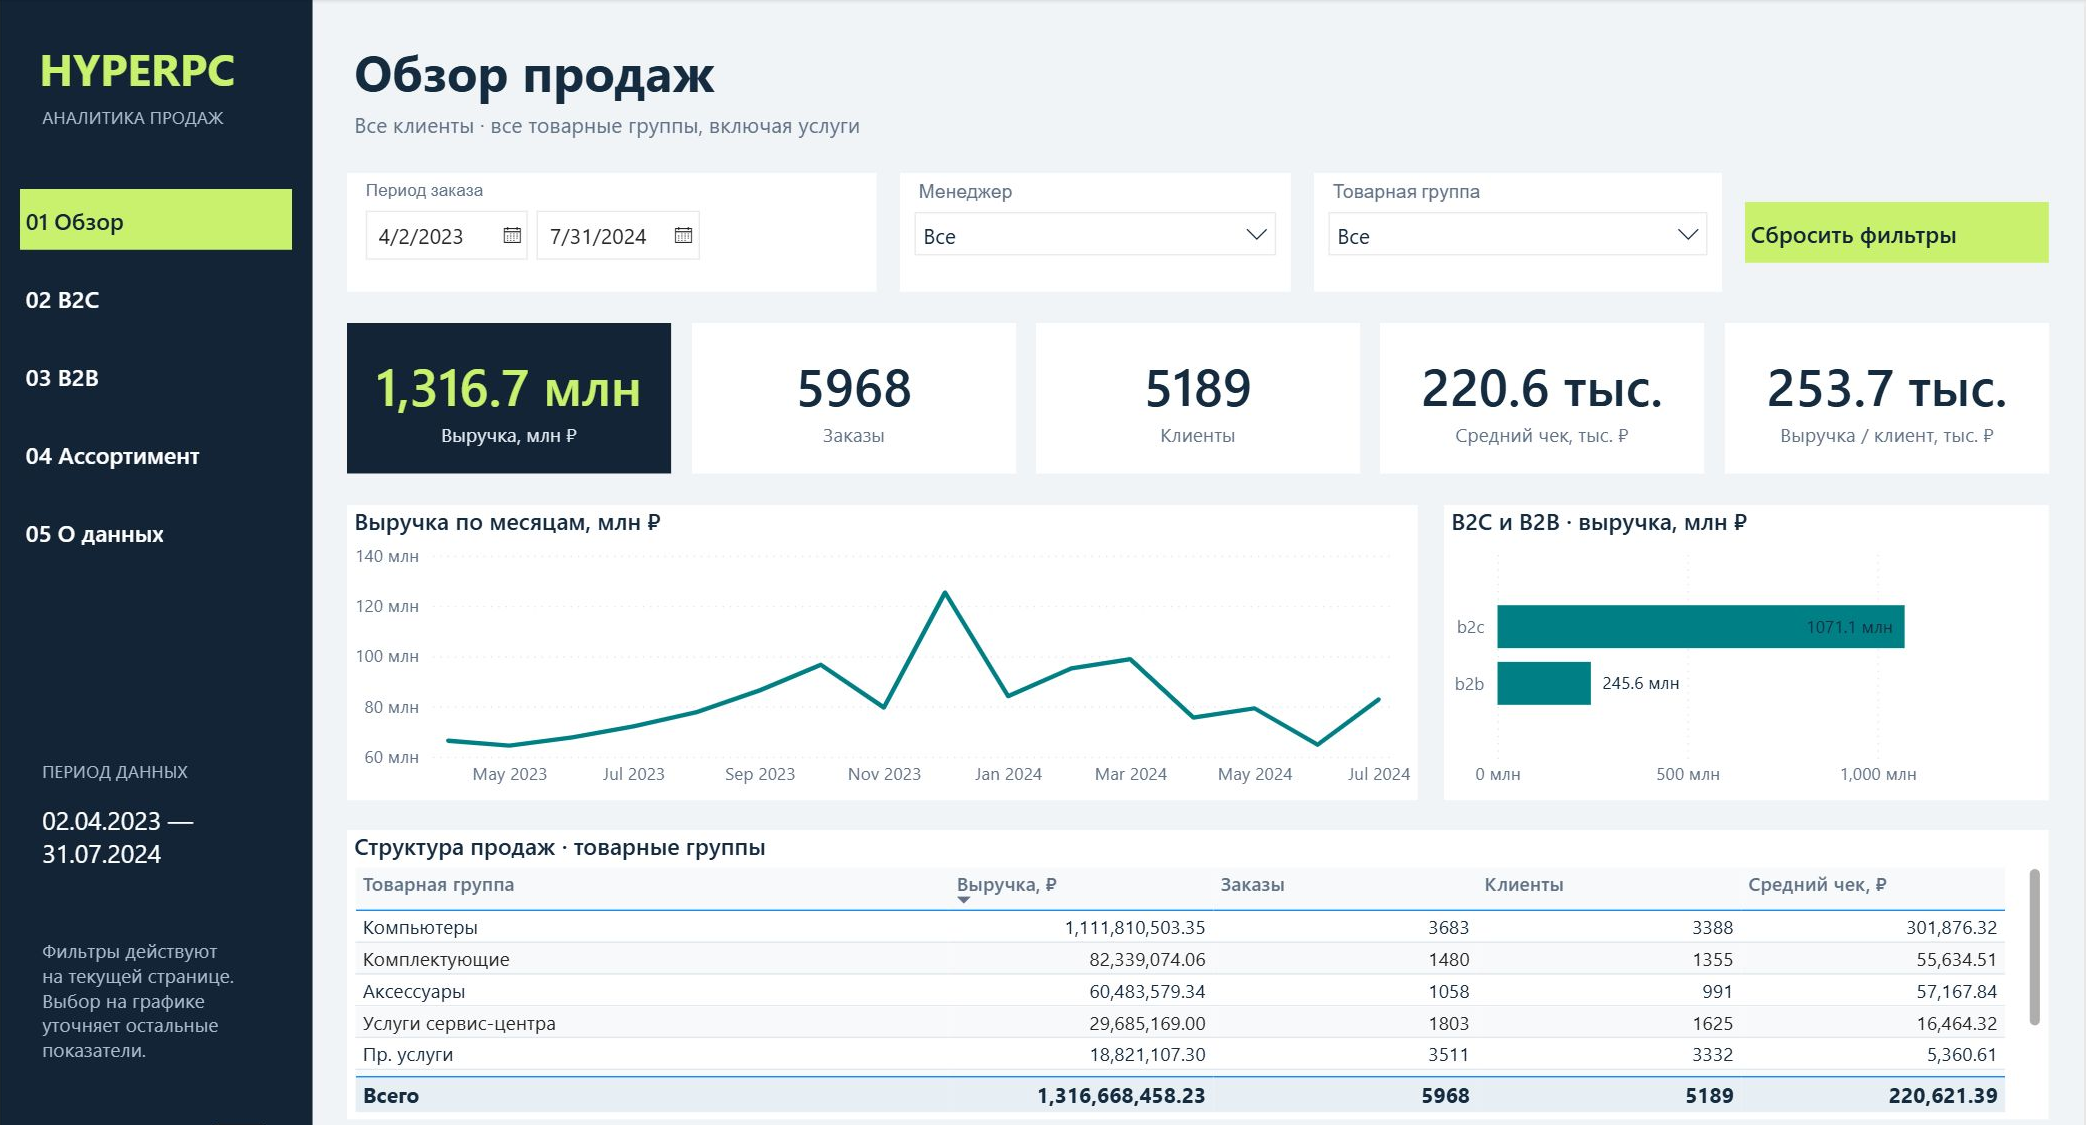

Layout of this report page (visuals, bound fields, positions):
{"tool":"powerbi","page":{"name":"01 Обзор","canvas":[1440,810],"ordinal":0},"visuals":[{"type":"textbox","box":[0,0,216,810],"z":1000},{"type":"textbox","box":[22,22,194,54],"z":2000},{"type":"textbox","box":[24,68,180,42],"z":3000},{"type":"actionButton","box":[14,131,188,42],"z":4000},{"type":"actionButton","box":[14,185,188,42],"z":5000},{"type":"actionButton","box":[14,239,188,42],"z":6000},{"type":"actionButton","box":[14,293,188,42],"z":7000},{"type":"actionButton","box":[14,347,188,42],"z":8000},{"type":"textbox","box":[24,520,170,40],"z":9000},{"type":"textbox","box":[24,550,170,79],"z":10000},{"type":"textbox","box":[24,644,174,120],"z":11000},{"type":"textbox","box":[240,22,970,59],"z":12000},{"type":"textbox","box":[240,72,1168,44],"z":13000},{"type":"slicer","fields":{"Values":["Таблица продаж.Дата заказа"]},"box":[240,120,366,82],"z":14000},{"type":"slicer","fields":{"Values":["Таблица продаж.Менеджер"]},"box":[622,120,270,82],"z":15000},{"type":"slicer","fields":{"Values":["Таблица продаж.Тов.группа"]},"box":[908,120,282,82],"z":16000},{"type":"actionButton","box":[1206,140,210,42],"z":17000},{"type":"textbox","box":[240,778,900,32],"z":18000},{"type":"textbox","box":[1345,778,70,32],"z":19000},{"type":"card","fields":{"Values":["Меры.Выручка"]},"box":[240,224,224,104],"z":20000},{"type":"card","fields":{"Values":["Меры.Количество заказов"]},"box":[478,224,224,104],"z":21000},{"type":"card","fields":{"Values":["Меры.Количество клиентов"]},"box":[716,224,224,104],"z":22000},{"type":"card","fields":{"Values":["Меры.Средний чек"]},"box":[954,224,224,104],"z":23000},{"type":"card","fields":{"Values":["Меры.LTV"]},"box":[1192,224,224,104],"z":24000},{"type":"lineChart","title":"Выручка по месяцам, млн ₽","fields":{"Y":["Меры.Выручка"],"Category":["Таблица продаж.Дата заказа.Изменение.Иерархия дат.Год","Таблица продаж.Дата заказа.Изменение.Иерархия дат.Месяц"]},"box":[240,350,740,204],"z":25000},{"type":"barChart","title":"B2C и B2B · выручка, млн ₽","fields":{"Category":["Таблица продаж.тип покупателя"],"Y":["Меры.Выручка"]},"box":[998,350,418,204],"z":26000},{"type":"tableEx","title":"Структура продаж · товарные группы","fields":{"Values":["Таблица продаж.Тов.группа","Меры.Выручка","Меры.Количество заказов","Меры.Количество клиентов","Меры.Средний чек"]},"box":[240,574,1176,200],"z":27000}]}

Visuals, with their boxes on the page's 1440x810 design canvas (x1, y1, x2, y2). These are canvas units, not pixel positions in the 2086x1125 screenshot, which may show the page scaled, cropped or inside an application window:
textbox: <bbox>0, 0, 216, 810</bbox>
textbox: <bbox>22, 22, 216, 76</bbox>
textbox: <bbox>24, 68, 204, 110</bbox>
actionButton: <bbox>14, 131, 202, 173</bbox>
actionButton: <bbox>14, 185, 202, 227</bbox>
actionButton: <bbox>14, 239, 202, 281</bbox>
actionButton: <bbox>14, 293, 202, 335</bbox>
actionButton: <bbox>14, 347, 202, 389</bbox>
textbox: <bbox>24, 520, 194, 560</bbox>
textbox: <bbox>24, 550, 194, 629</bbox>
textbox: <bbox>24, 644, 198, 764</bbox>
textbox: <bbox>240, 22, 1210, 81</bbox>
textbox: <bbox>240, 72, 1408, 116</bbox>
slicer - Таблица продаж.Дата заказа: <bbox>240, 120, 606, 202</bbox>
slicer - Таблица продаж.Менеджер: <bbox>622, 120, 892, 202</bbox>
slicer - Таблица продаж.Тов.группа: <bbox>908, 120, 1190, 202</bbox>
actionButton: <bbox>1206, 140, 1416, 182</bbox>
textbox: <bbox>240, 778, 1140, 810</bbox>
textbox: <bbox>1345, 778, 1415, 810</bbox>
card - Меры.Выручка: <bbox>240, 224, 464, 328</bbox>
card - Меры.Количество заказов: <bbox>478, 224, 702, 328</bbox>
card - Меры.Количество клиентов: <bbox>716, 224, 940, 328</bbox>
card - Меры.Средний чек: <bbox>954, 224, 1178, 328</bbox>
card - Меры.LTV: <bbox>1192, 224, 1416, 328</bbox>
"Выручка по месяцам, млн ₽" lineChart: <bbox>240, 350, 980, 554</bbox>
"B2C и B2B · выручка, млн ₽" barChart: <bbox>998, 350, 1416, 554</bbox>
"Структура продаж · товарные группы" tableEx: <bbox>240, 574, 1416, 774</bbox>
